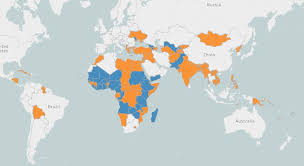

What the dashboard file says about the page in this screenshot:
{"tool":"tableau","page":{"name":"General Causes World Dash","canvas":[1000,800],"ordinal":2},"visuals":[{"type":"worksheet","title":"World Map General Causes","mark":"Automatic","box":[8,8,824,392]},{"type":"filter","title":"World Map General Causes","param":"[federated.0fmx07h17pgw7o18jgs0k1k1roco].[Set 2]","box":[832,8,160,103]},{"type":"filter","title":"World Map General Causes","param":"[federated.0fmx07h17pgw7o18jgs0k1k1roco].[Set 1]","box":[832,111,160,70]},{"type":"legend","title":"World Map General Causes","param":"[federated.0fmx07h17pgw7o18jgs0k1k1roco].[sum:Age-standardized Death Rate:qk]","box":[832,181,160,81]},{"type":"worksheet","title":"General Causes World Bar 2000","mark":"Bar","rows":["Age-standardized Death Rate"],"cols":["Date"],"box":[8,400,824,392]}]}

Visuals, with their boxes on the page's 1000x800 design canvas (x1, y1, x2, y2). These are canvas units, not pixel positions in the 304x166 screenshot, which may show the page scaled, cropped or inside an application window:
"World Map General Causes" worksheet: 8/8/832/400
"World Map General Causes" filter: 832/8/992/111
"World Map General Causes" filter: 832/111/992/181
"World Map General Causes" legend: 832/181/992/262
"General Causes World Bar 2000" worksheet (Bar marks): 8/400/832/792
